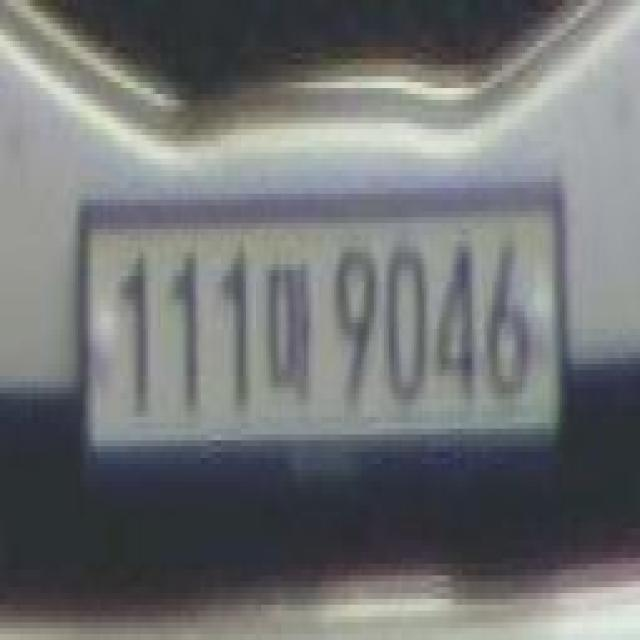illegal_plate: (83, 175, 566, 488)
